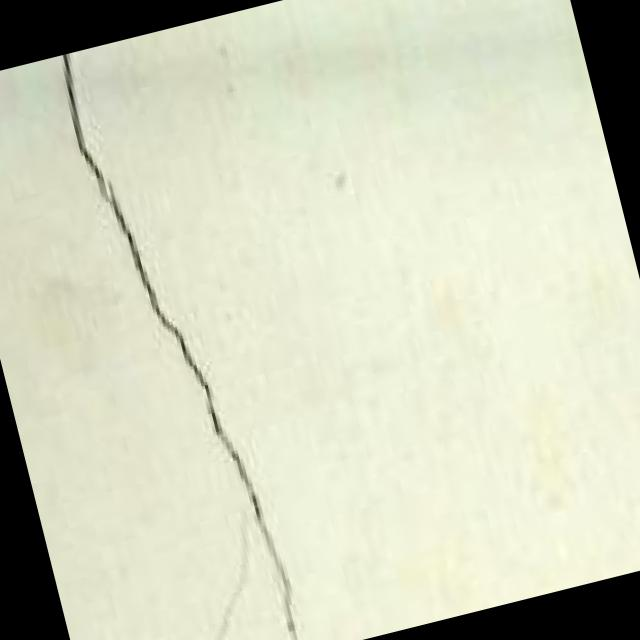crack: (34, 30, 312, 640)
